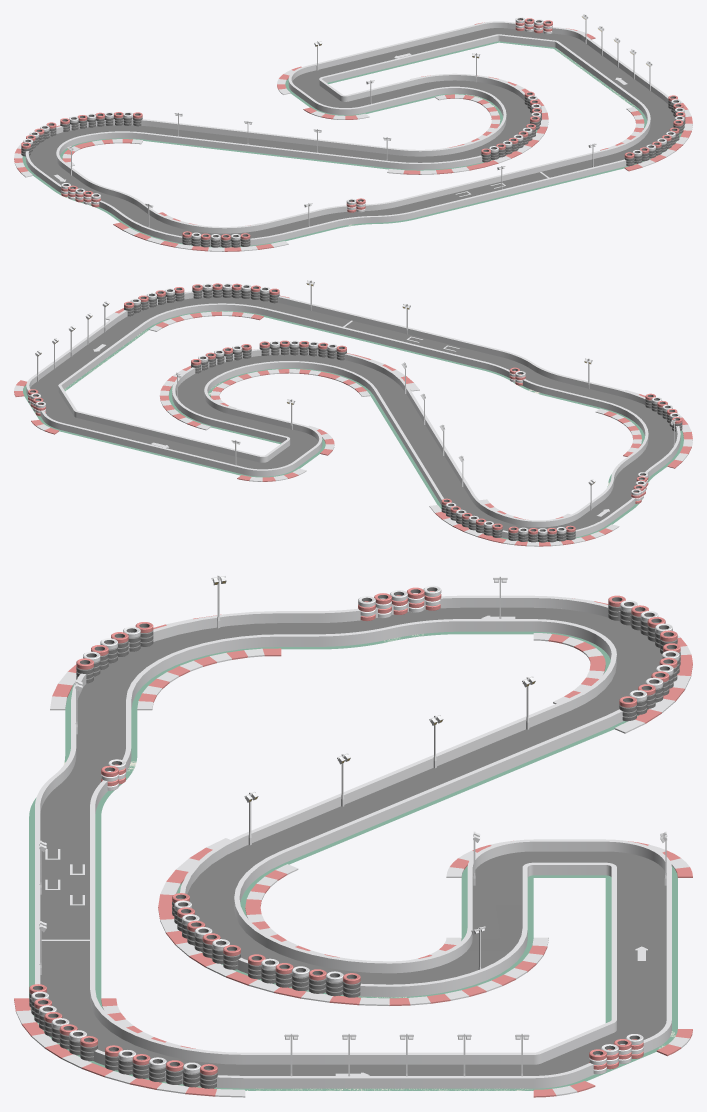
File: track_decorated.dae
3 views of the same model, one above another, from view 1: azimuth 30°, elevation 25°; view 2: azimuth 150°, elevation 25°; view 3: azimuth 270°, elevation 25° (orthographic). The views are drawn at different scales.
Visible parts, largest first — view 1: Track, Walls, Tires, Light_Posts, node1; view 2: Track, Walls, Tires, Light_Posts, node1; view 3: Track, Walls, Tires, Light_Posts, node1.
Boxes of the visible parts, box(x1,y1,x2,y2) form: Track: box(14, 22, 692, 251); Walls: box(25, 21, 668, 246); Tires: box(21, 17, 685, 247); Light_Posts: box(67, 14, 652, 227); node1: box(88, 28, 669, 220); Track: box(14, 292, 692, 546); Walls: box(26, 291, 680, 537); Tires: box(28, 283, 682, 542); Light_Posts: box(35, 280, 675, 510); node1: box(37, 297, 631, 496); Track: box(14, 598, 692, 1097); Walls: box(35, 595, 671, 1087); Tires: box(29, 585, 680, 1088); Light_Posts: box(39, 575, 667, 1076); node1: box(69, 611, 660, 1075).
Size of the model in its own units: 32.84 by 18.84 by 1.62.
